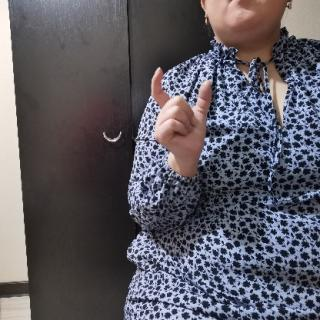NOON: (148, 66, 214, 166)
